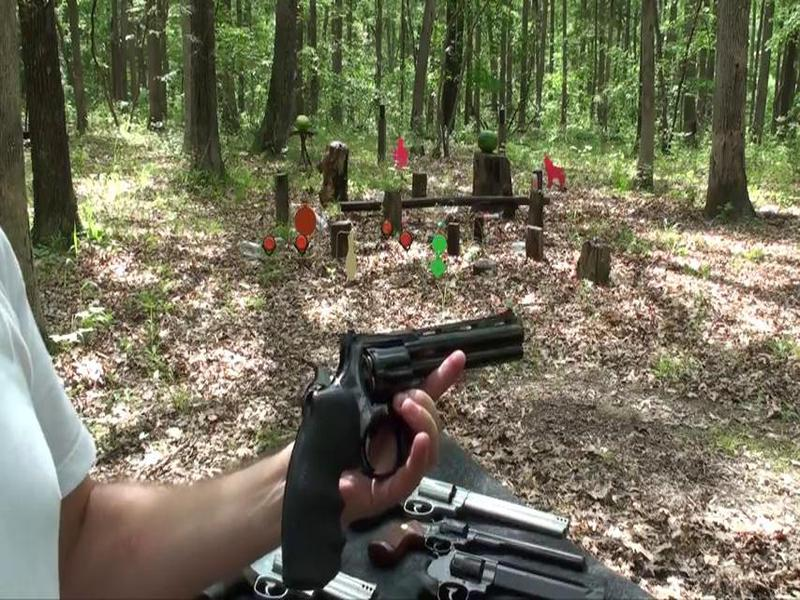Revolver: (249, 299, 535, 592)
